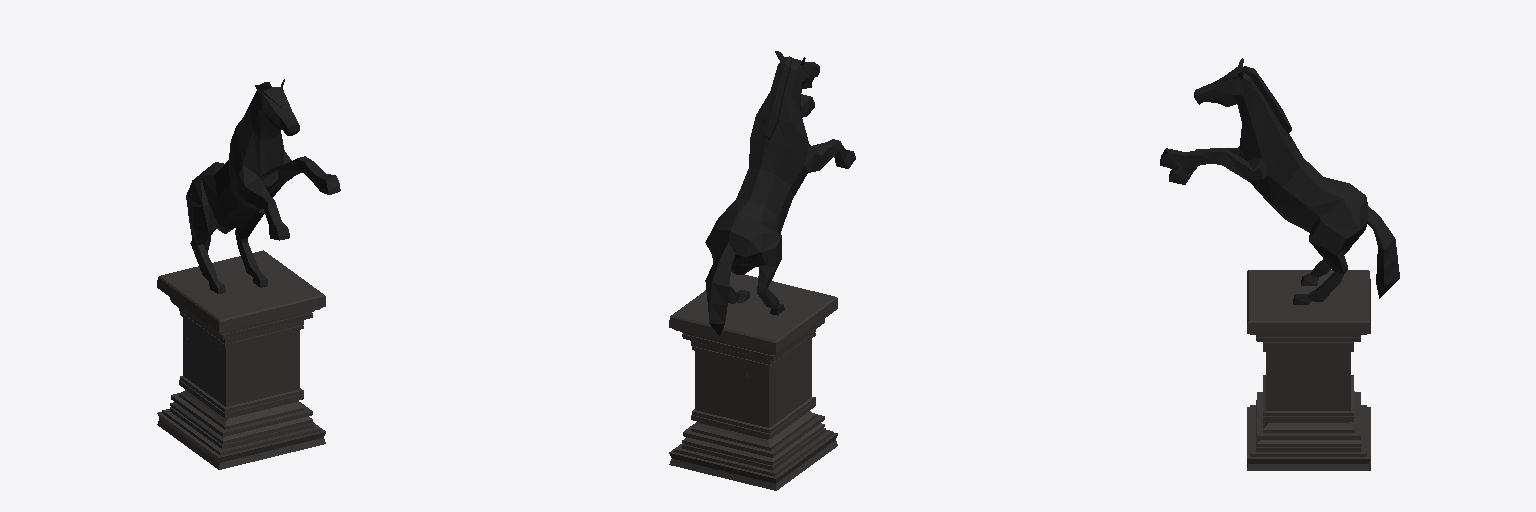
File: Statue_Horse.obj
3 views of the same model, side by side, from view 1: azimuth 30°, elevation 25°; view 2: azimuth 150°, elevation 25°; view 3: azimuth 270°, elevation 25° (orthographic).
Parts seen in each view (by area): view 1: Pedestal_Cube.008, Horse_Cylinder.012; view 2: Pedestal_Cube.008, Horse_Cylinder.012; view 3: Pedestal_Cube.008, Horse_Cylinder.012.
Boxes of the visible parts, x1=… form: Pedestal_Cube.008: x1=157, y1=250, x2=325, y2=469; Horse_Cylinder.012: x1=186, y1=79, x2=340, y2=293; Pedestal_Cube.008: x1=669, y1=272, x2=837, y2=490; Horse_Cylinder.012: x1=705, y1=51, x2=855, y2=335; Pedestal_Cube.008: x1=1247, y1=270, x2=1370, y2=470; Horse_Cylinder.012: x1=1160, y1=58, x2=1399, y2=304.
Bounding box in the file's own units: 1.74 × 5.85 × 3.38.